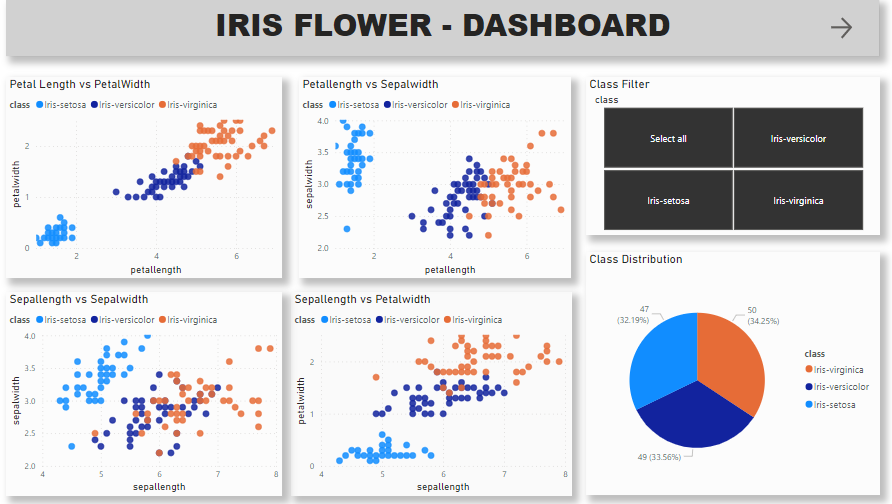

The dashboard page shown, as its layout file describes it:
{"tool":"powerbi","page":{"name":"Page 1","canvas":[1280,720],"ordinal":0},"visuals":[{"type":"scatterChart","title":"Sepallength vs Sepalwidth","fields":{"Series":["Sheet1.class"],"X":["Sheet1.sepallength"],"Y":["Sheet1.sepalwidth"]},"box":[10.2,415.6,393.7,291.2],"z":0},{"type":"slicer","title":"Class Filter","fields":{"Values":["Sheet1.class"]},"box":[837.1,109.8,418.5,225.4],"z":1000},{"type":"scatterChart","title":"Petal Length vs PetalWidth","fields":{"X":["Sheet1.petallength"],"Series":["Sheet1.class"],"Y":["Sheet1.petalwidth"]},"box":[10.2,109.8,393.7,286.8],"z":2000},{"type":"scatterChart","title":"Petallength vs Sepalwidth","fields":{"Y":["Sheet1.sepalwidth"],"Series":["Sheet1.class"],"X":["Sheet1.petallength"]},"box":[427.3,109.8,387.8,286.8],"z":3000},{"type":"scatterChart","title":"Sepallength vs Petalwidth","fields":{"Y":["Sheet1.petalwidth"],"Series":["Sheet1.class"],"X":["Sheet1.sepallength"]},"box":[415.6,415.6,399.5,291.2],"z":4000},{"type":"pieChart","title":"Class Distribution","fields":{"Category":["Sheet1.class"],"Y":["Sheet1.Total rows"]},"box":[837.1,360,418.5,346.8],"z":5000},{"type":"textbox","box":[10.2,0,1245.4,80.5],"z":6000},{"type":"actionButton","box":[1181,20.5,99.5,39.5],"z":6001}]}

Visuals, with their boxes in screenshot pixels (x1, y1, x2, y2), scaled from the page's 1280x720 canvas onto the 892x504 screenshot:
"Sepallength vs Sepalwidth" scatterChart: [7, 291, 281, 495]
"Class Filter" slicer: [583, 77, 875, 235]
"Petal Length vs PetalWidth" scatterChart: [7, 77, 281, 278]
"Petallength vs Sepalwidth" scatterChart: [298, 77, 568, 278]
"Sepallength vs Petalwidth" scatterChart: [290, 291, 568, 495]
"Class Distribution" pieChart: [583, 252, 875, 495]
textbox: [7, 0, 875, 56]
actionButton: [823, 14, 891, 42]
